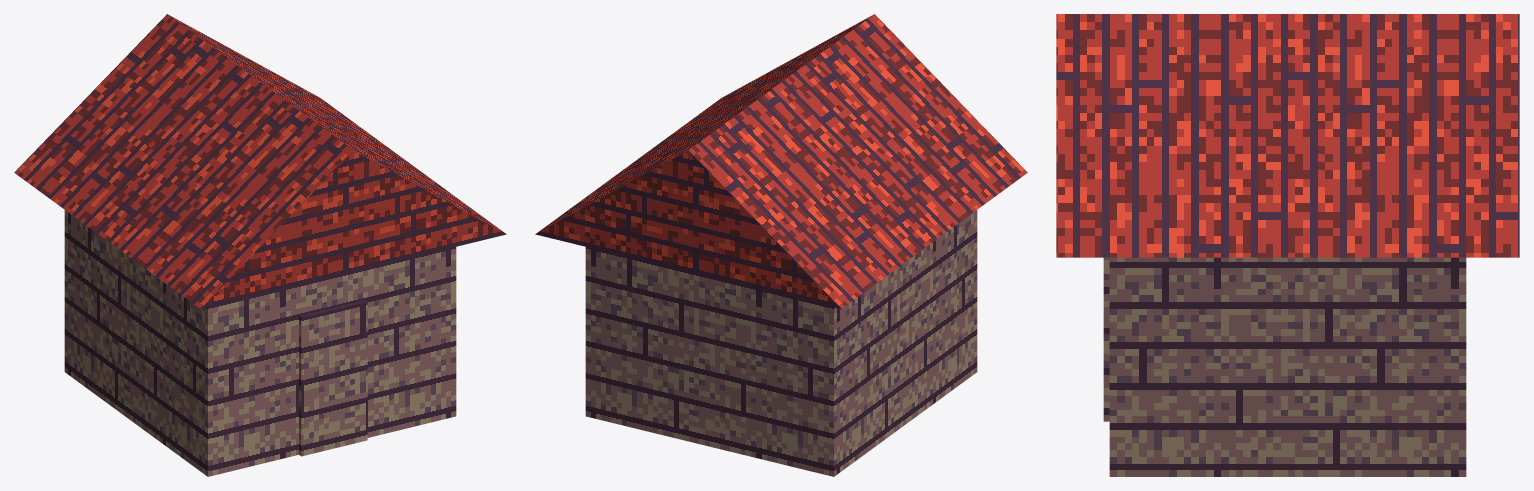
Rendered from a82_casa_de_cupula_azul.glb.
3 renders of one model, left to right at view 1: azimuth 30°, elevation 25°; view 2: azimuth 150°, elevation 25°; view 3: azimuth 270°, elevation 25°, orthographic. The views are drawn at different scales.
Parts seen in each view (by area): view 1: a82_casa_de_cupula_azul; view 2: a82_casa_de_cupula_azul; view 3: a82_casa_de_cupula_azul.
Boxes of the visible parts, x1,y1,x2,y2 form: a82_casa_de_cupula_azul: [14, 14, 506, 476]; a82_casa_de_cupula_azul: [535, 14, 1027, 476]; a82_casa_de_cupula_azul: [1056, 14, 1519, 476].
Bounding box in the file's own units: 3.7 × 3.6 × 3.9.
2 materials, 2 textured.
